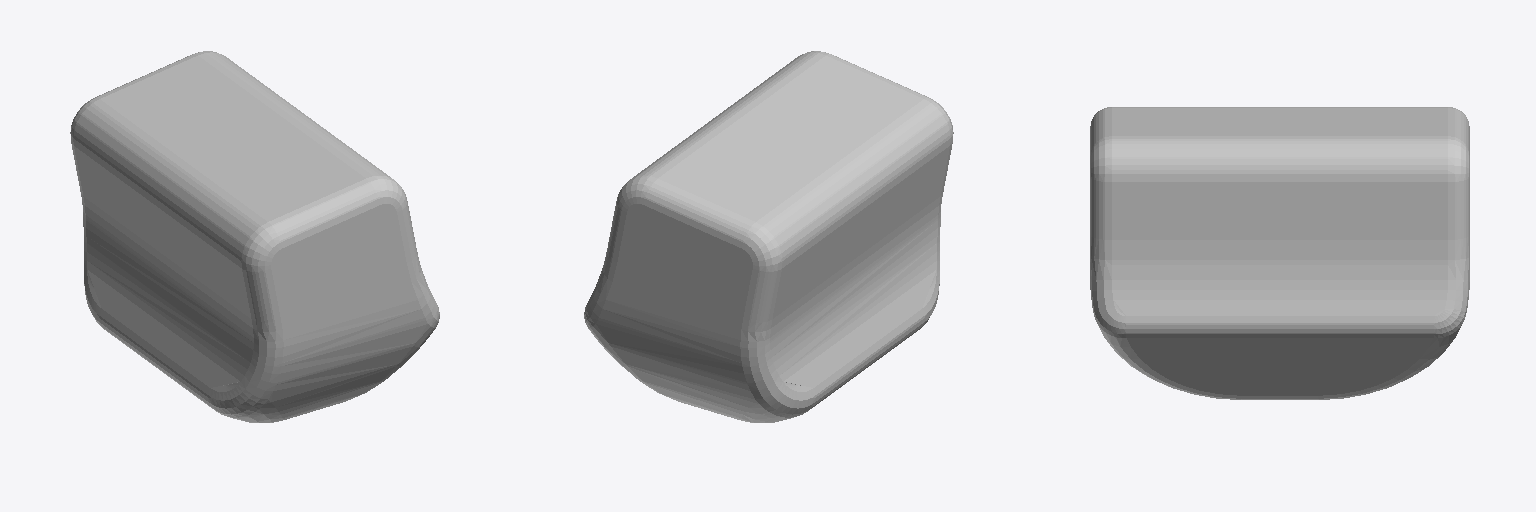
Rendered from converted_r3_finger_proximal_magtac_808080ff.obj.
3 views of the same model, side by side, from view 1: azimuth 30°, elevation 25°; view 2: azimuth 150°, elevation 25°; view 3: azimuth 270°, elevation 25° (orthographic).
Bounding box in the file's own units: 0.0217 × 0.0271 × 0.035.